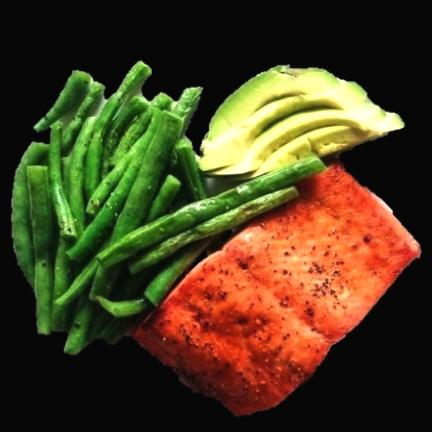fish: (132, 160, 420, 414)
green_beans: (12, 62, 320, 354)
